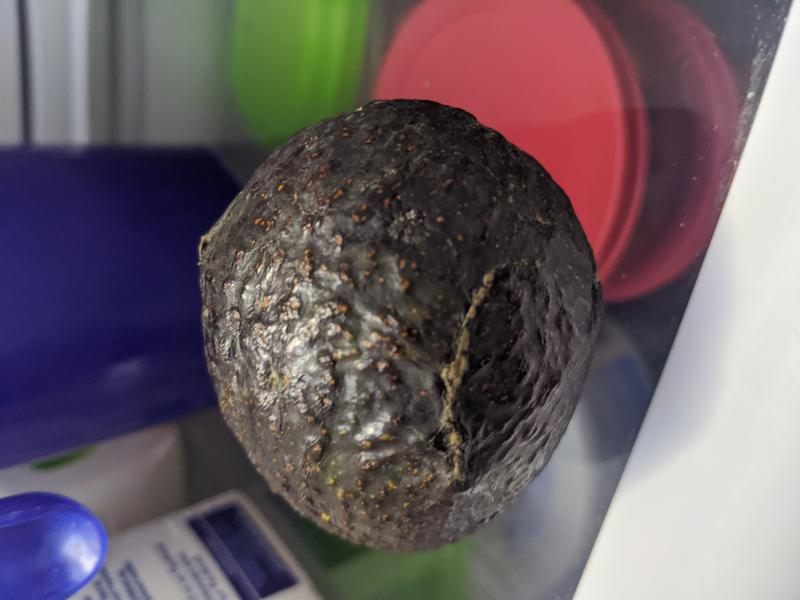avocado: (194, 100, 605, 553)
